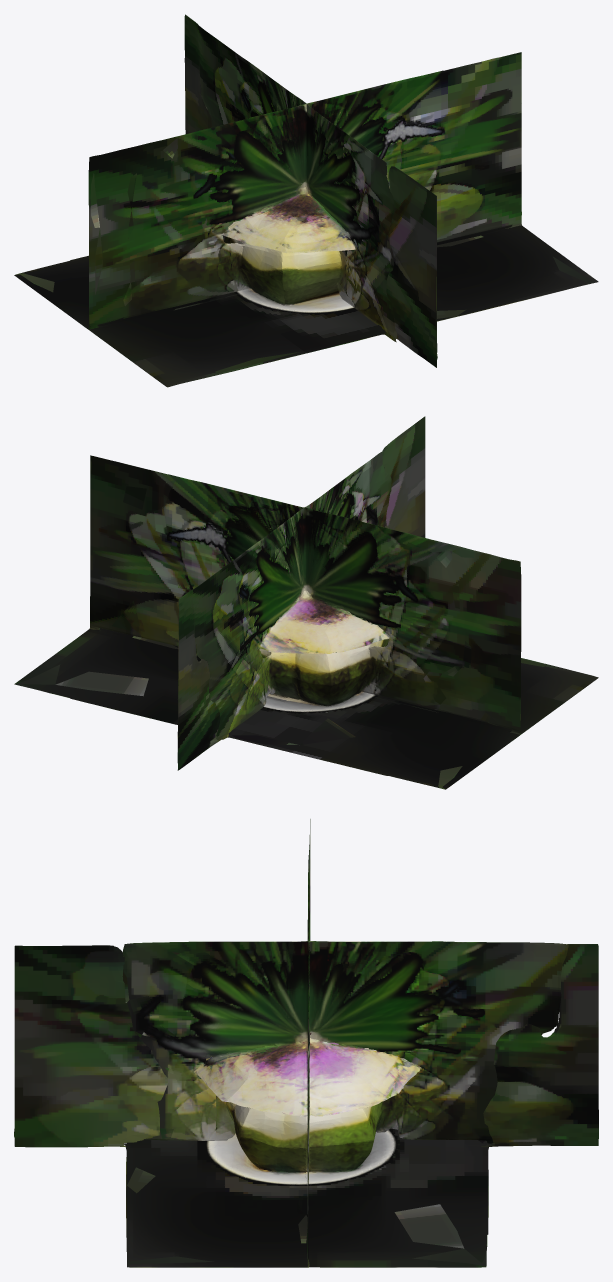
Rendered from sample.glb.
3 renders of one model, top to bottom at view 1: azimuth 30°, elevation 25°; view 2: azimuth 150°, elevation 25°; view 3: azimuth 270°, elevation 25°, orthographic. The views are drawn at different scales.
Visible parts, largest first — view 1: world; view 2: world; view 3: world.
Part boxes in pixels (left/top/right/bottom): world: left=14, top=14, right=598, bottom=387; world: left=14, top=416, right=598, bottom=789; world: left=14, top=819, right=598, bottom=1267.
Size of the model in its own units: 1 by 0.4144 by 1.
Materials: 1 (1 with a texture image).
